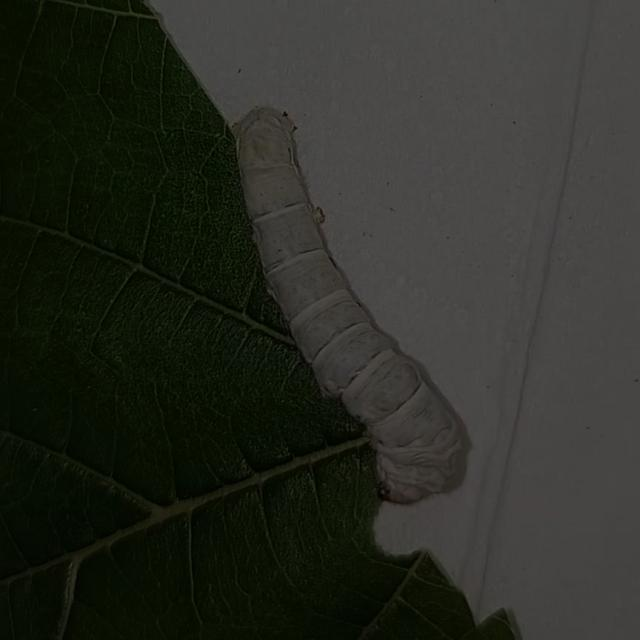Healthy: (197, 62, 498, 518)
